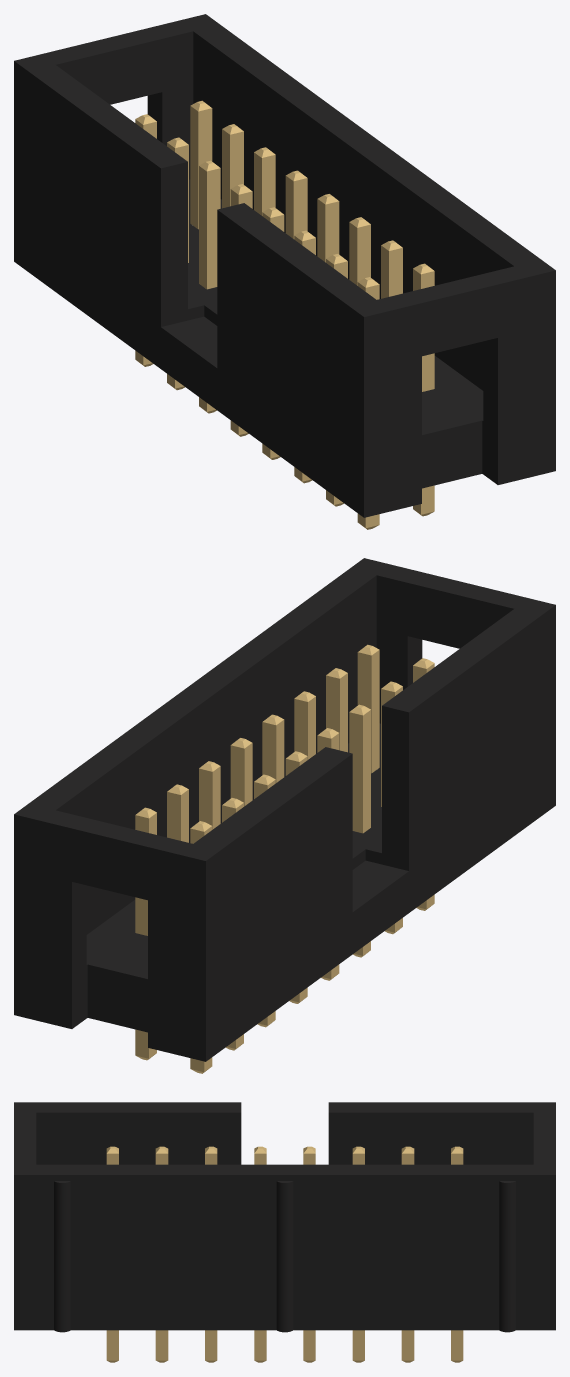
File: kc-idc-header_2x08_p2.54mm_vertical.glb
3 views of the same model, one above another, from view 1: azimuth 30°, elevation 25°; view 2: azimuth 150°, elevation 25°; view 3: azimuth 270°, elevation 25° (orthographic). The views are drawn at different scales.
Parts seen in each view (by area): view 1: 0_0_0_0, 0.75_0.5_0.25_0.9; view 2: 0_0_0_0, 0.75_0.5_0.25_0.9; view 3: 0_0_0_0, 0.75_0.5_0.25_0.9.
Part boxes in pixels (<box>): 0_0_0_0: <box>14,14,555,517</box>; 0.75_0.5_0.25_0.9: <box>135,100,434,529</box>; 0_0_0_0: <box>14,558,555,1061</box>; 0.75_0.5_0.25_0.9: <box>135,644,434,1073</box>; 0_0_0_0: <box>14,1102,555,1332</box>; 0.75_0.5_0.25_0.9: <box>106,1146,463,1362</box>.
Size of the model in its own units: 0.91 by 1.21 by 2.8.
